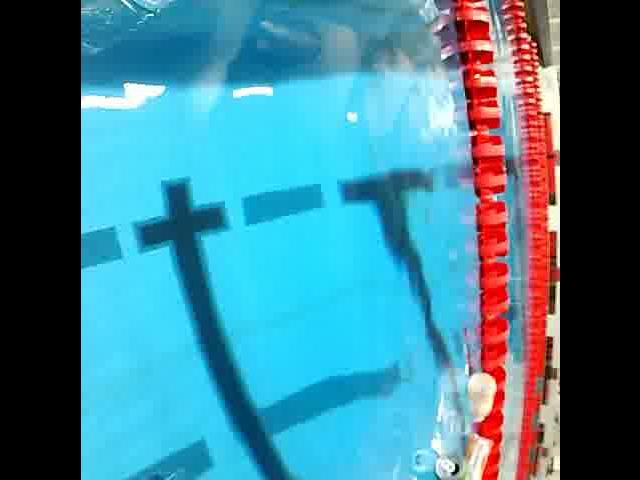Bottle: (80, 0, 243, 28), (461, 370, 497, 428), (460, 431, 496, 480)
Can: (432, 445, 474, 480)
